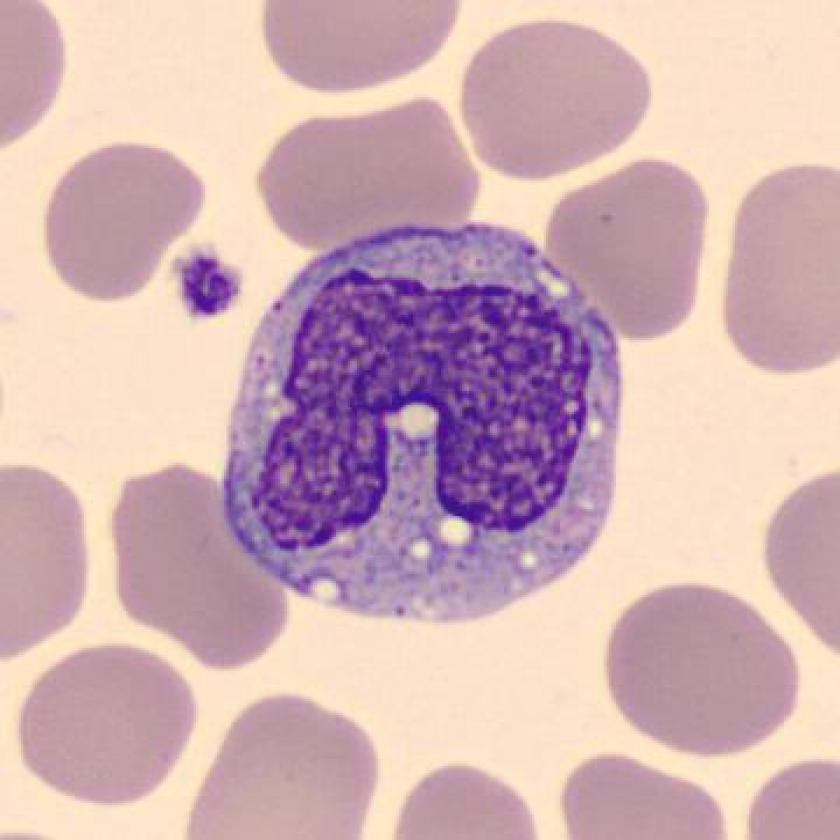monocyte: (204, 198, 650, 644)
